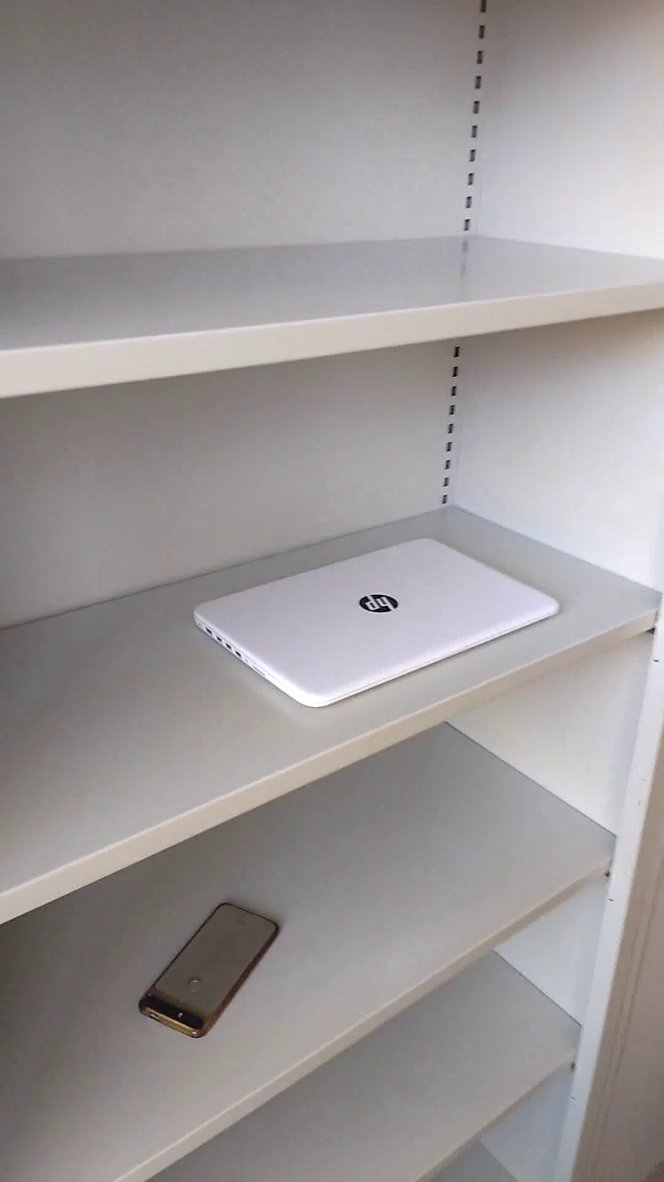laptop: (186, 525, 588, 730)
phone: (132, 895, 297, 1052)
